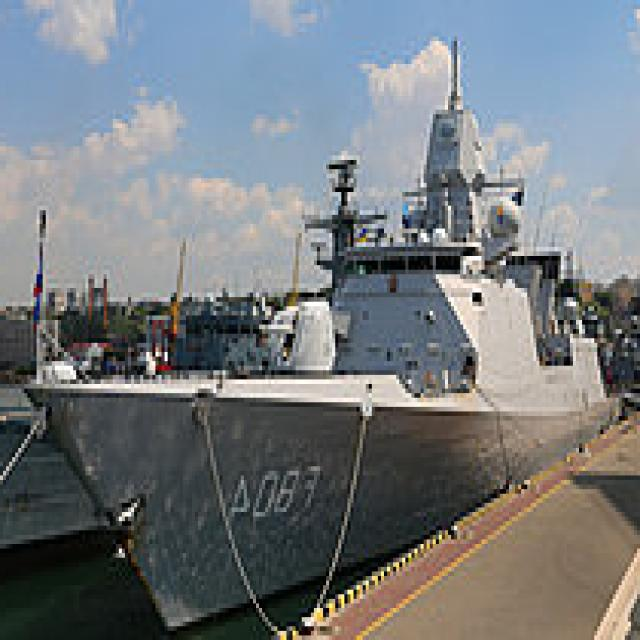Warship: (21, 32, 634, 635)
